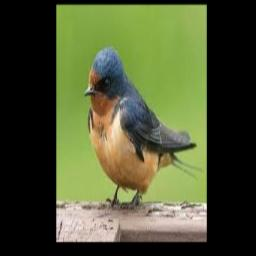Swallow: (84, 46, 203, 204)
